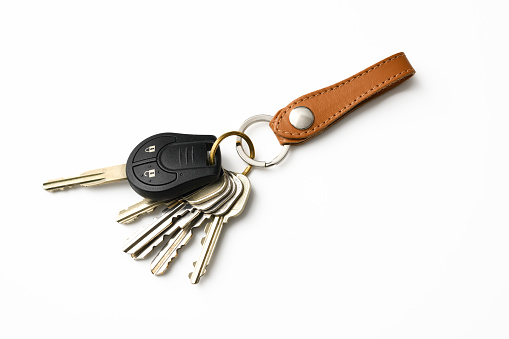key: (33, 120, 255, 287)
